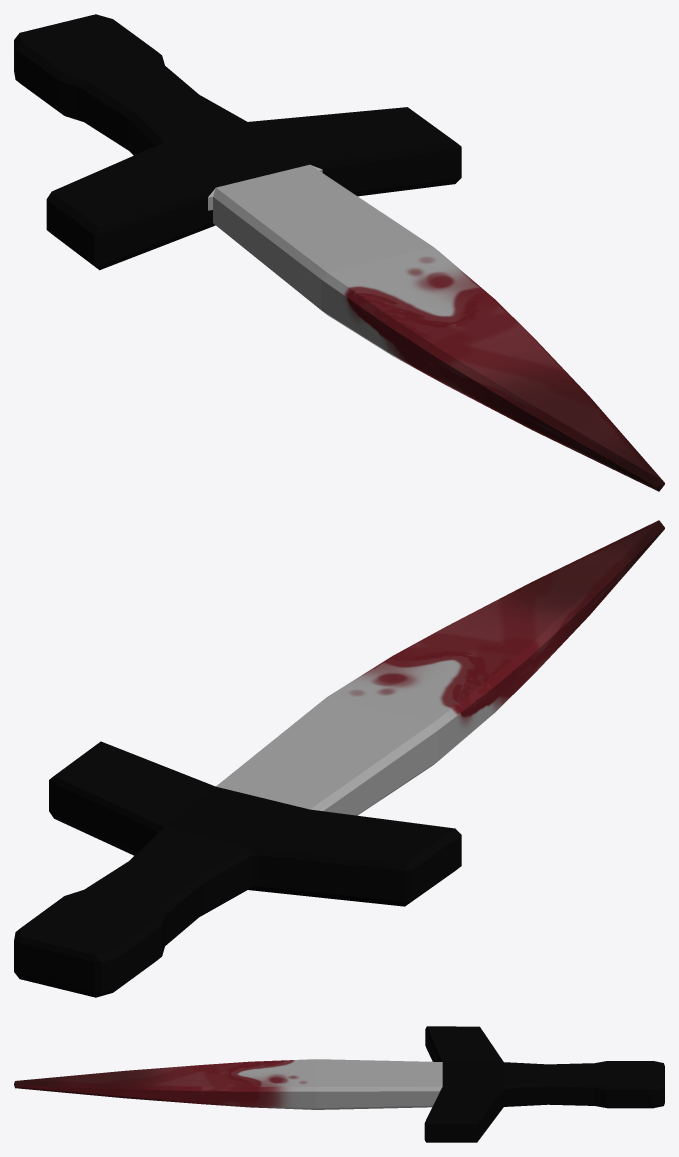
File: dagger.fbx
The picture shows the model from 3 angles, top to bottom: view 1: azimuth 30°, elevation 25°; view 2: azimuth 150°, elevation 25°; view 3: azimuth 270°, elevation 25°; orthographic projection. The views are drawn at different scales.
Visible parts, largest first — view 1: Plane; view 2: Plane; view 3: Plane.
Part boxes in pixels (<box>): Plane: <box>14,14,664,491</box>; Plane: <box>14,520,664,997</box>; Plane: <box>14,1026,664,1142</box>.
Size of the model in its own units: 13.57 by 1.51 by 38.73.
Materials: 1 (1 with a texture image).
